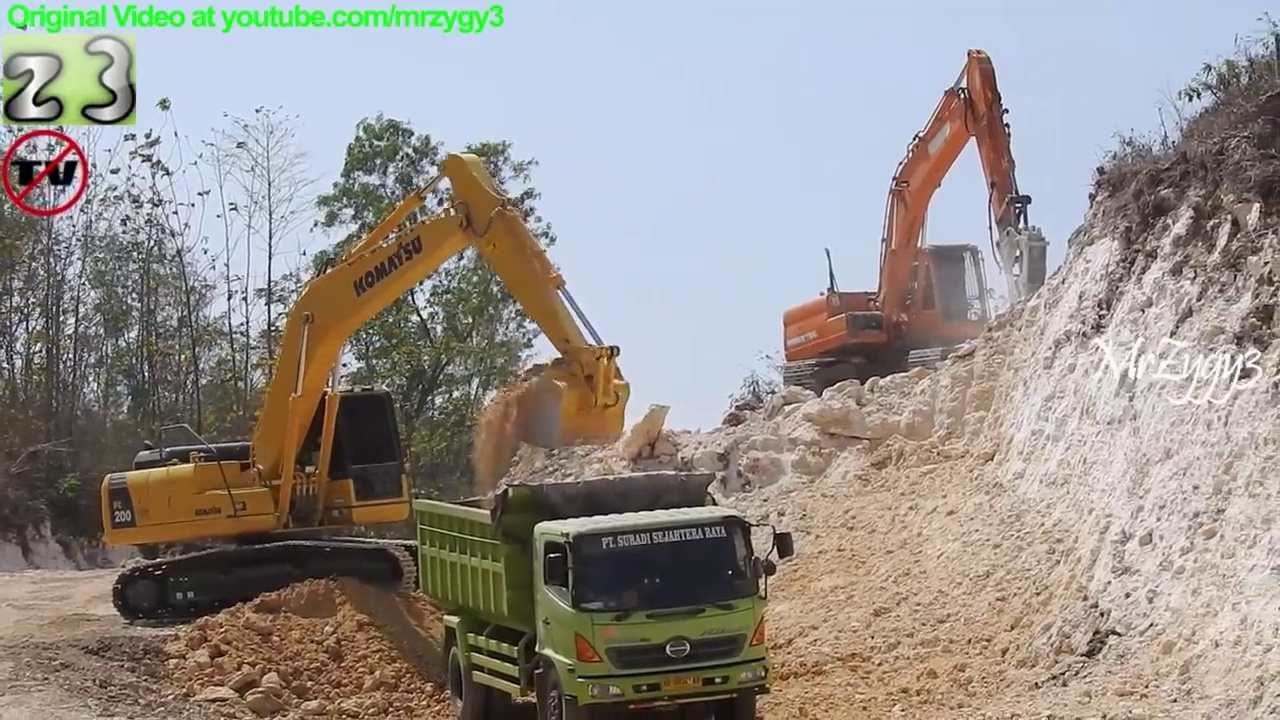excavator: (92, 151, 636, 631), (777, 41, 1054, 403)
truck: (406, 465, 800, 720)
